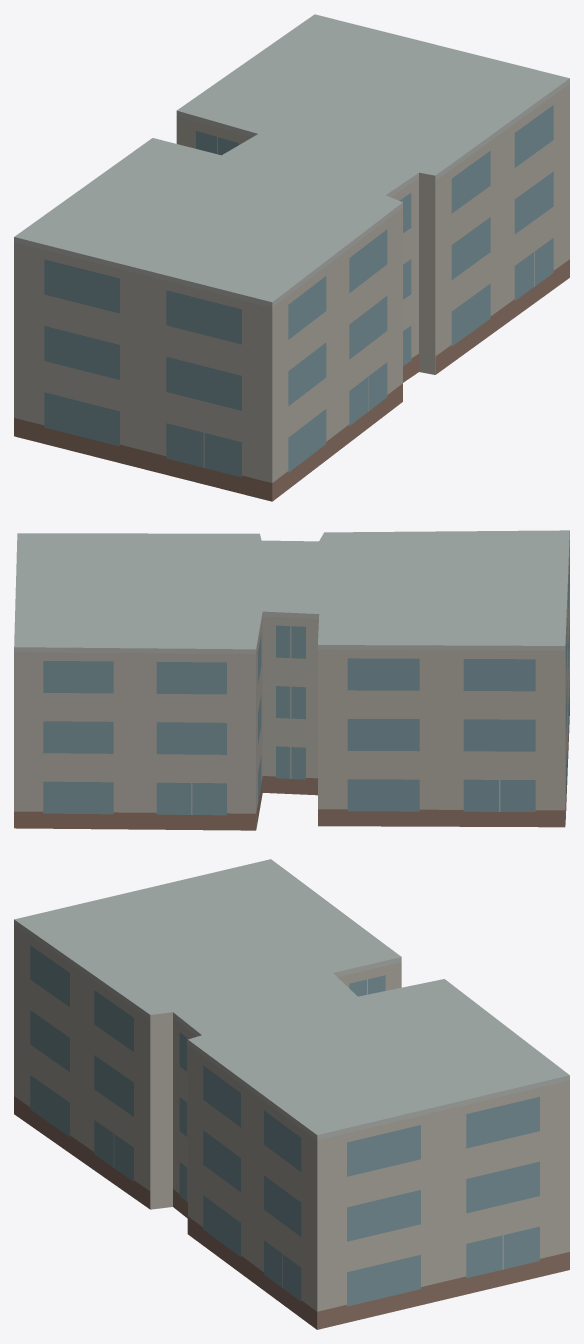
Rendered from survey-upis-32967284.glb.
The picture shows the model from 3 angles, top to bottom: view 1: azimuth 30°, elevation 25°; view 2: azimuth 150°, elevation 25°; view 3: azimuth 270°, elevation 25°; orthographic projection. The views are drawn at different scales.
Visible parts, largest first — view 1: survey-upis-32967284.tmp; view 2: survey-upis-32967284.tmp; view 3: survey-upis-32967284.tmp.
Part boxes in pixels (bbox=[...]): survey-upis-32967284.tmp: bbox=[14, 14, 569, 501]; survey-upis-32967284.tmp: bbox=[14, 530, 569, 830]; survey-upis-32967284.tmp: bbox=[14, 859, 569, 1329].
Bounding box in the file's own units: 27.84 × 9.15 × 23.68.
